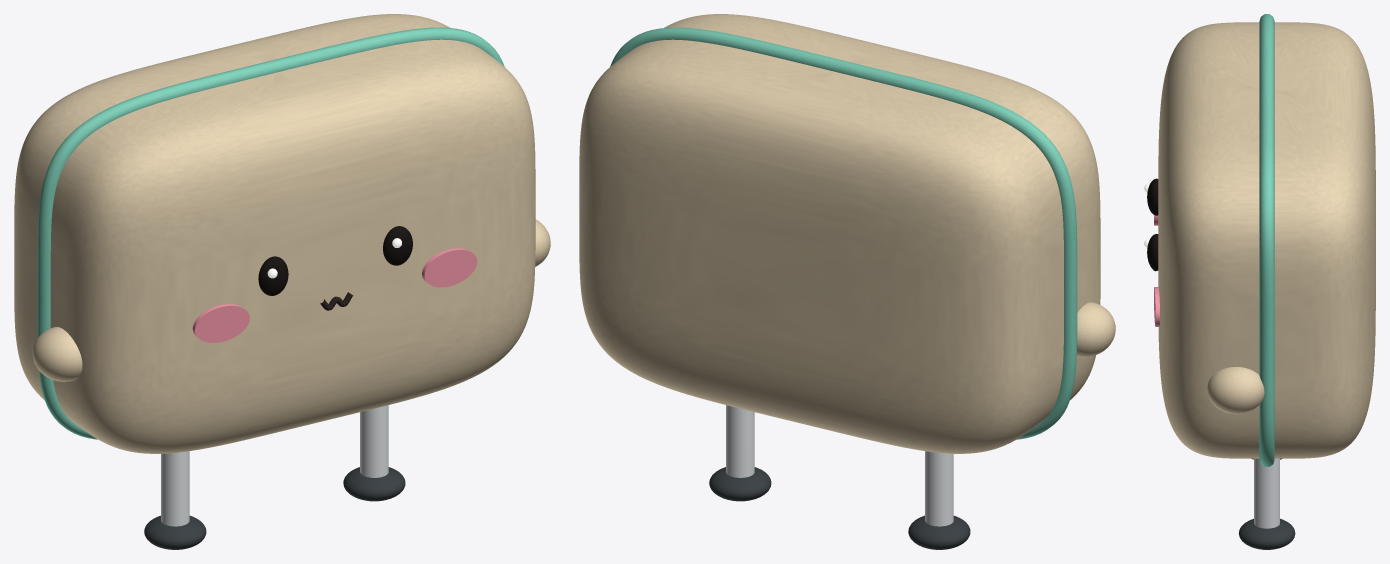
File: poksin.glb
3 renders of one model, left to right at view 1: azimuth 30°, elevation 25°; view 2: azimuth 150°, elevation 25°; view 3: azimuth 270°, elevation 25°, orthographic. The views are drawn at different scales.
Parts seen in each view (by area): view 1: poksin; view 2: poksin; view 3: poksin.
Part boxes in pixels (box(x1,y1,x2,y2)): poksin: box(14, 14, 550, 549); poksin: box(579, 14, 1115, 549); poksin: box(1144, 14, 1375, 549).
Size of the model in its own units: 2.46 by 2.12 by 1.07.
14 materials, 5 textured.
